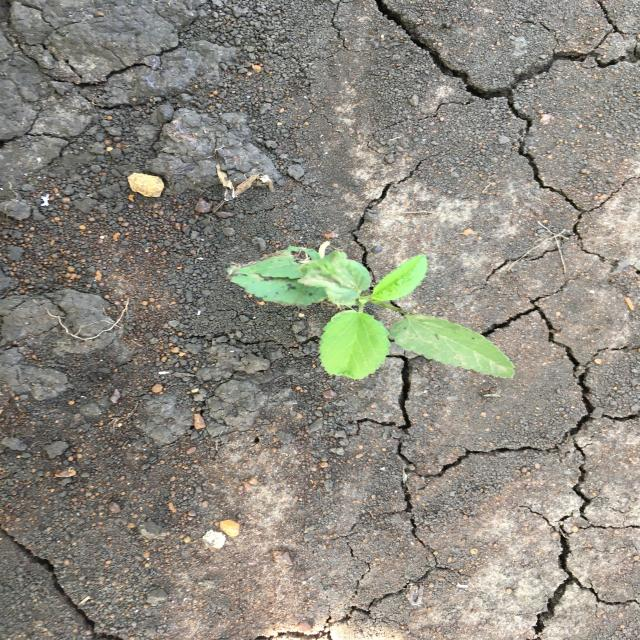PricklySida: (226, 242, 518, 383)
